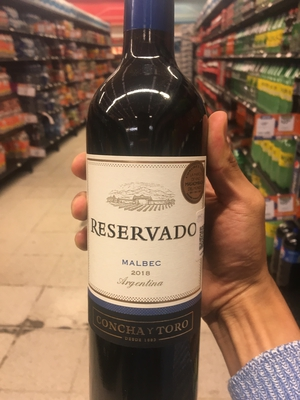reservado malbec: (77, 11, 209, 400)
